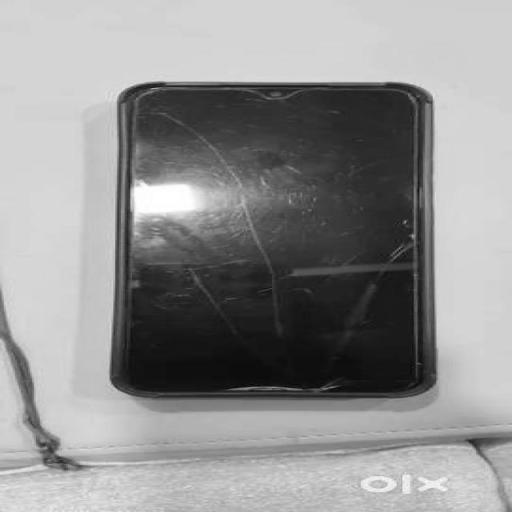phone: (117, 75, 446, 394)
